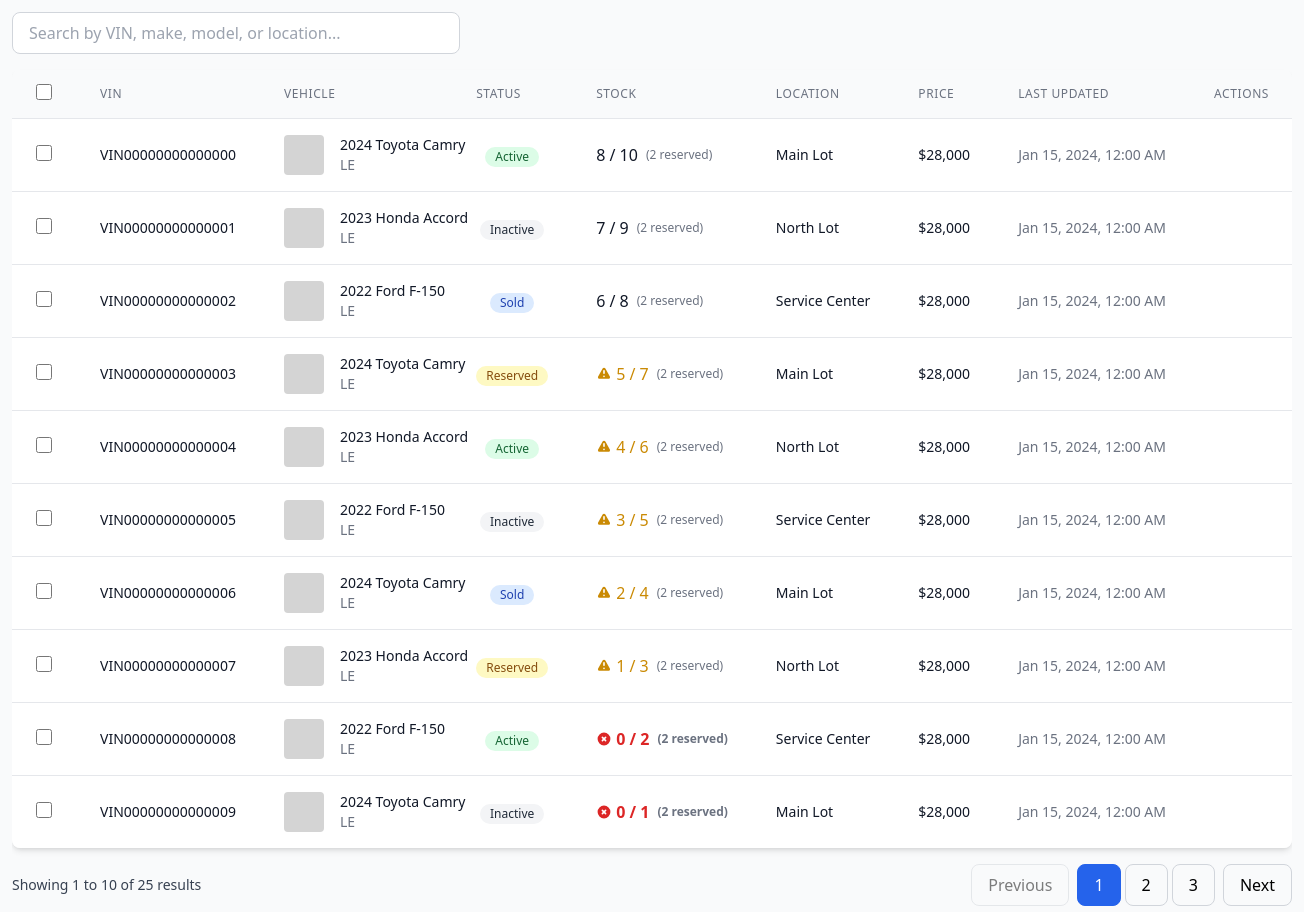
Test case: InventoryTable Component › Pagination › should navigate to next page
Click the button with aria-label "Next page" at {"x": 1257, "y": 885}, box [1223, 864, 1292, 906]
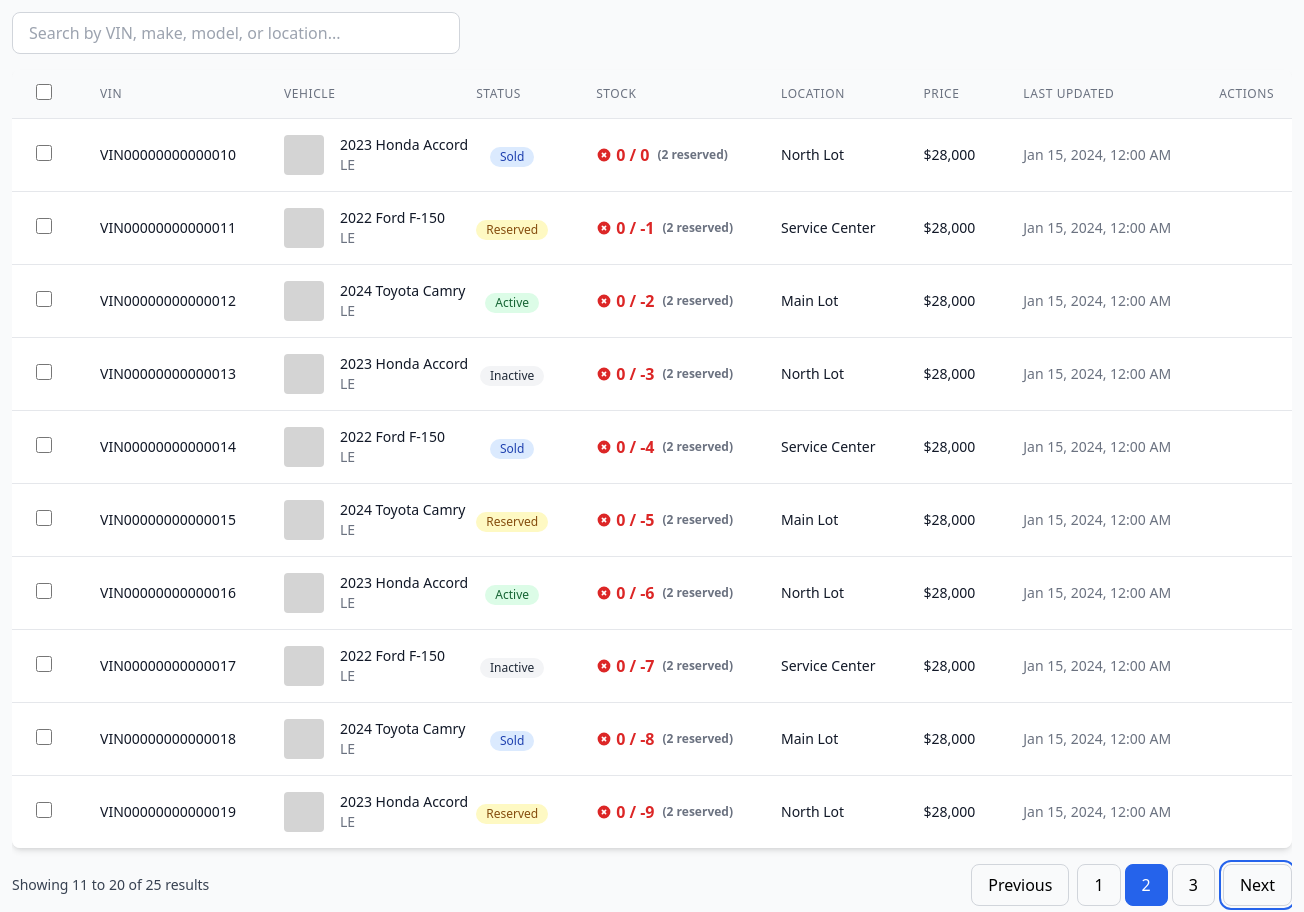
Now the text "Showing 11 to 20 of 25 results" is shown, box [12, 875, 209, 895]
